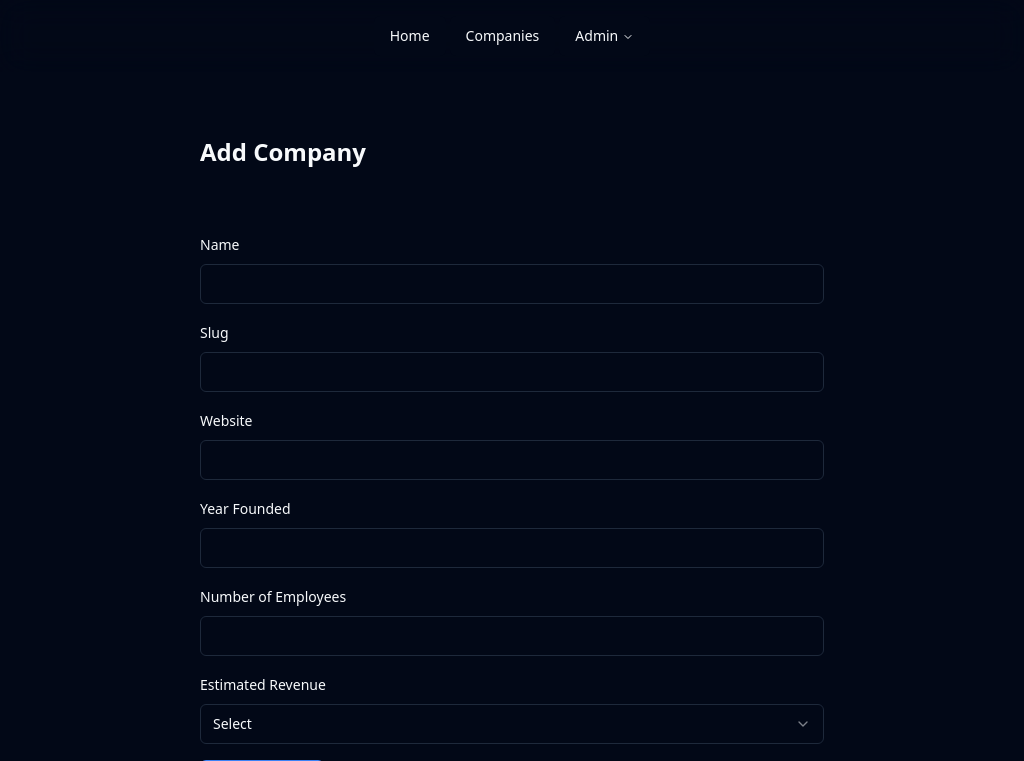
Test: Company Form Page › should show error when year is less than 1900
Step 1. Type "1800" into the number field named "yearFounded" → coordinates (512, 548), box [200, 528, 824, 568]
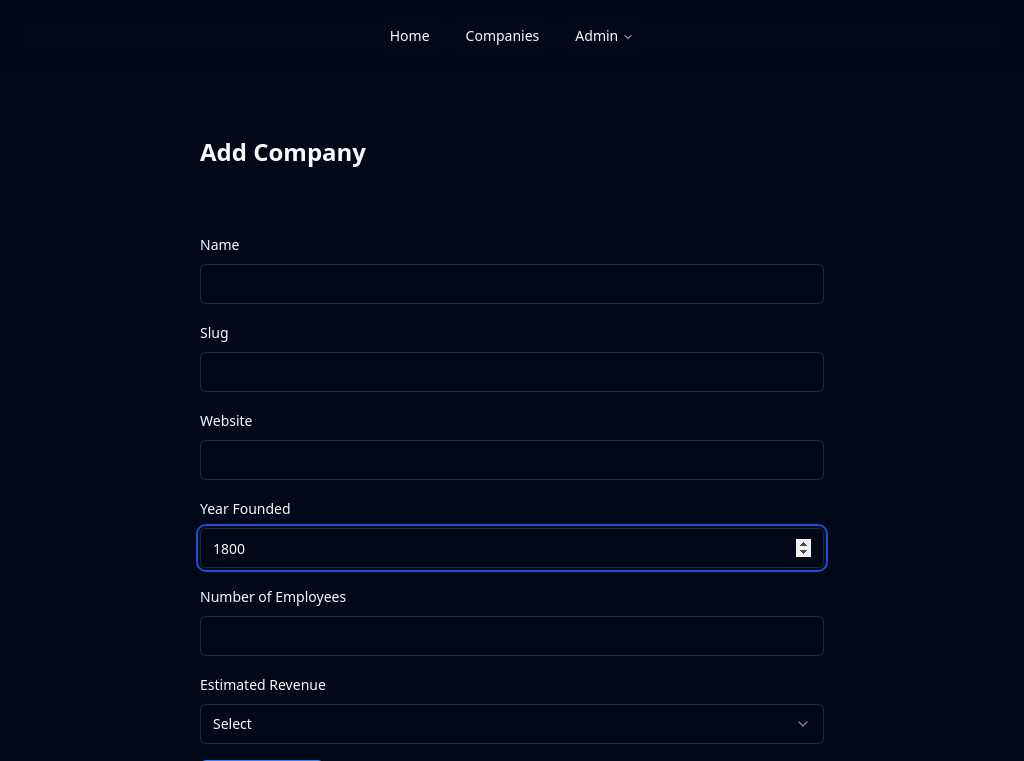
Step 2. Scroll
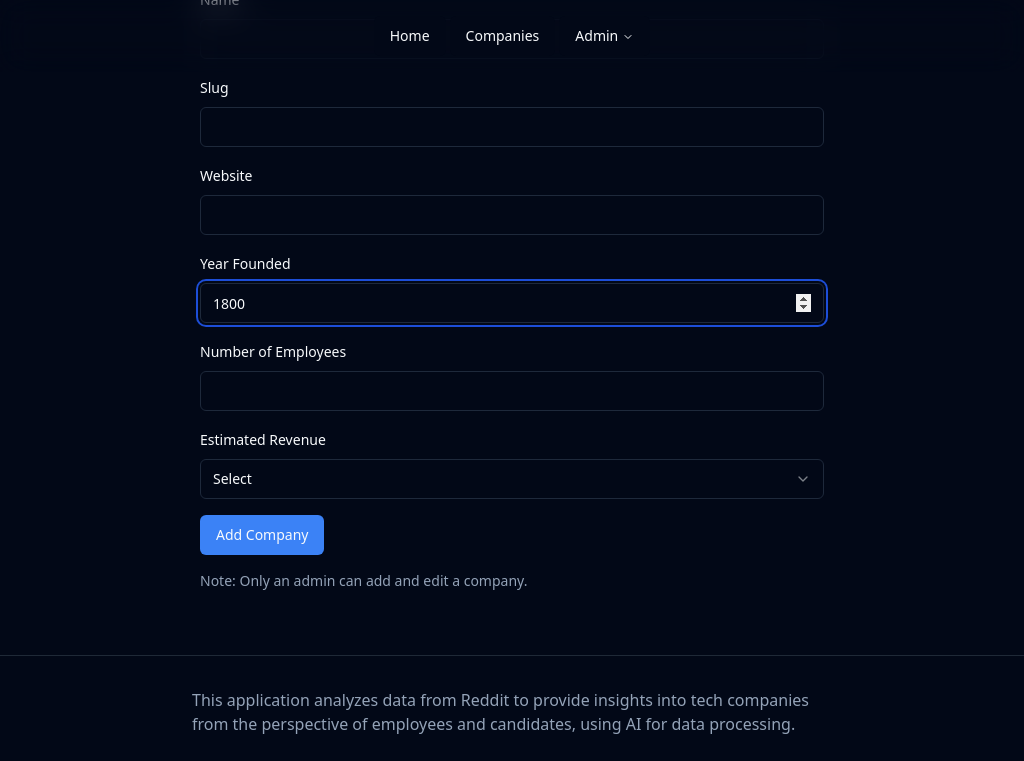
Step 3. Click the submit button → coordinates (263, 535), box [200, 515, 325, 555]
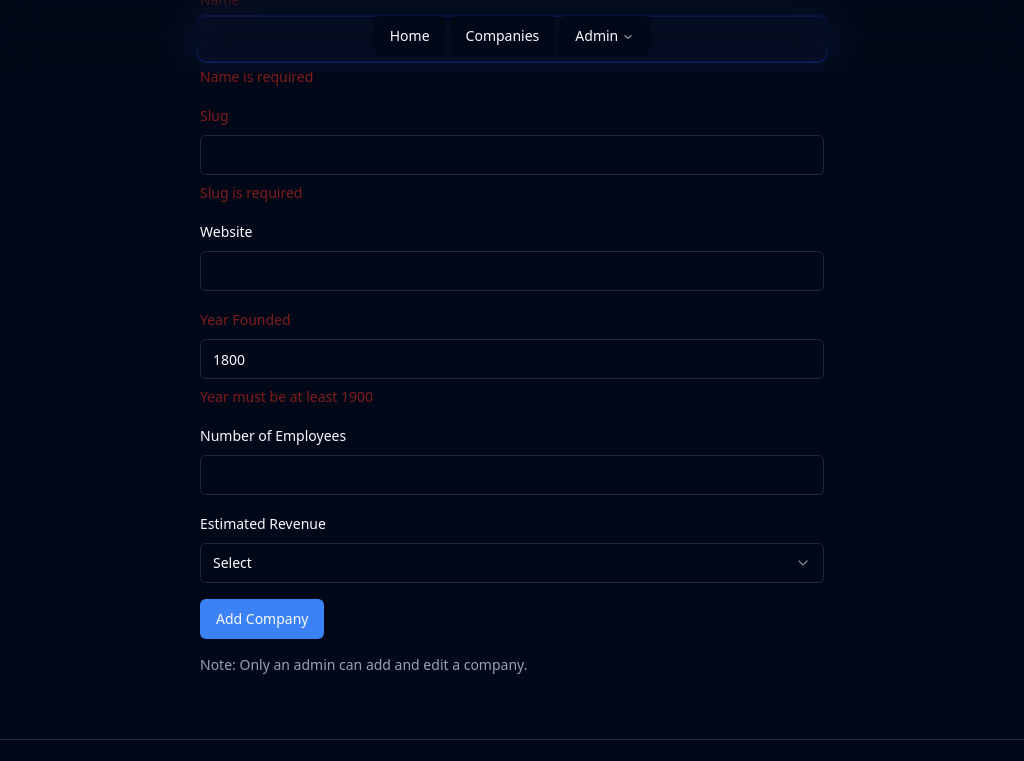
Check: the text "Year must be at least 1900" is shown, box [200, 387, 373, 406]
